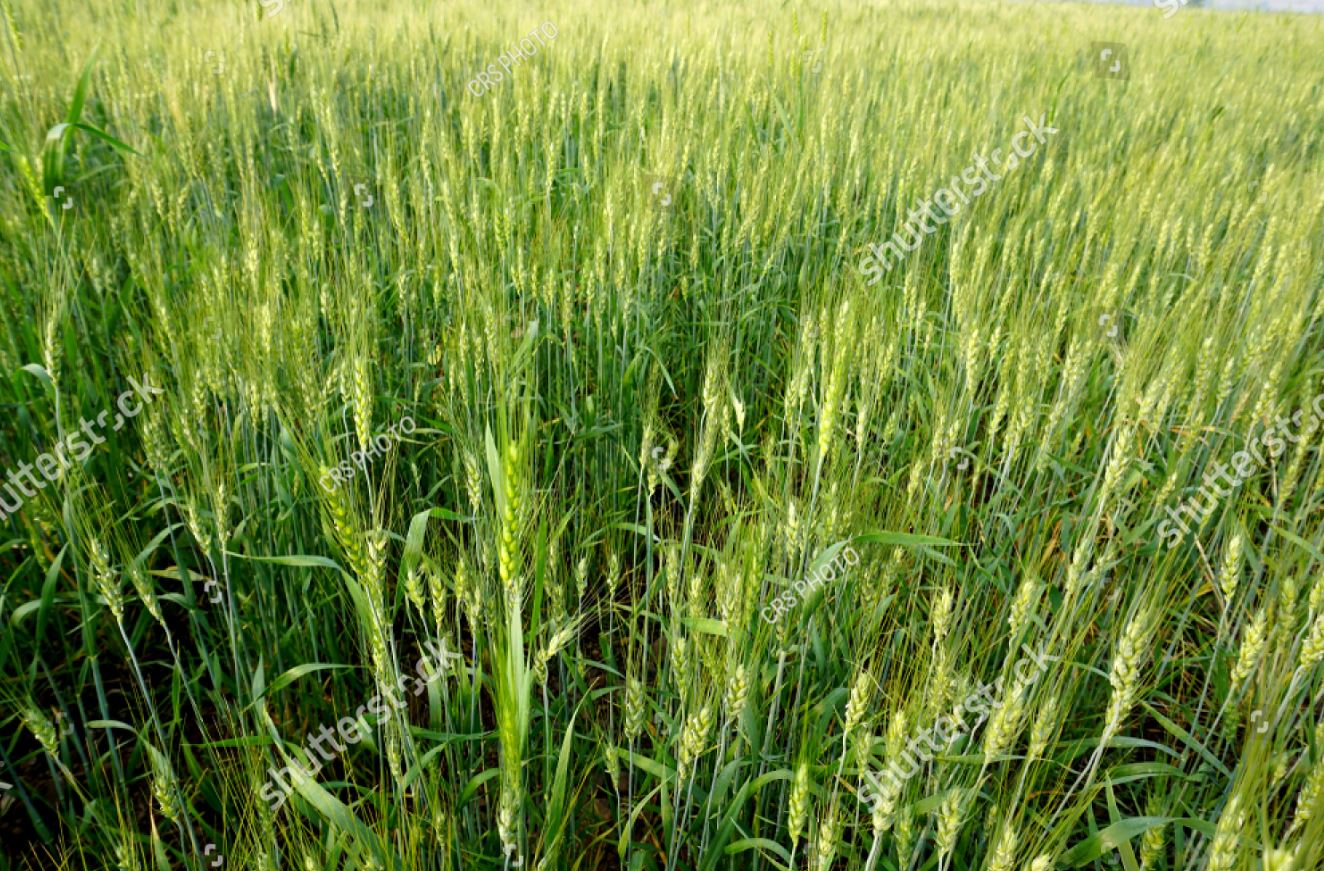Wheat: (152, 79, 814, 601)
